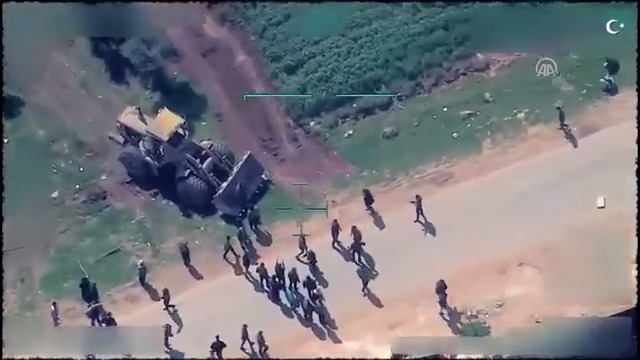arac: (113, 85, 278, 213)
insan: (237, 321, 258, 354), (206, 331, 229, 360), (329, 216, 347, 252), (361, 181, 379, 217), (410, 190, 428, 224), (556, 104, 573, 137), (222, 233, 240, 264), (253, 261, 270, 290), (134, 258, 154, 282), (255, 328, 273, 354), (158, 287, 178, 310), (287, 266, 301, 291)
